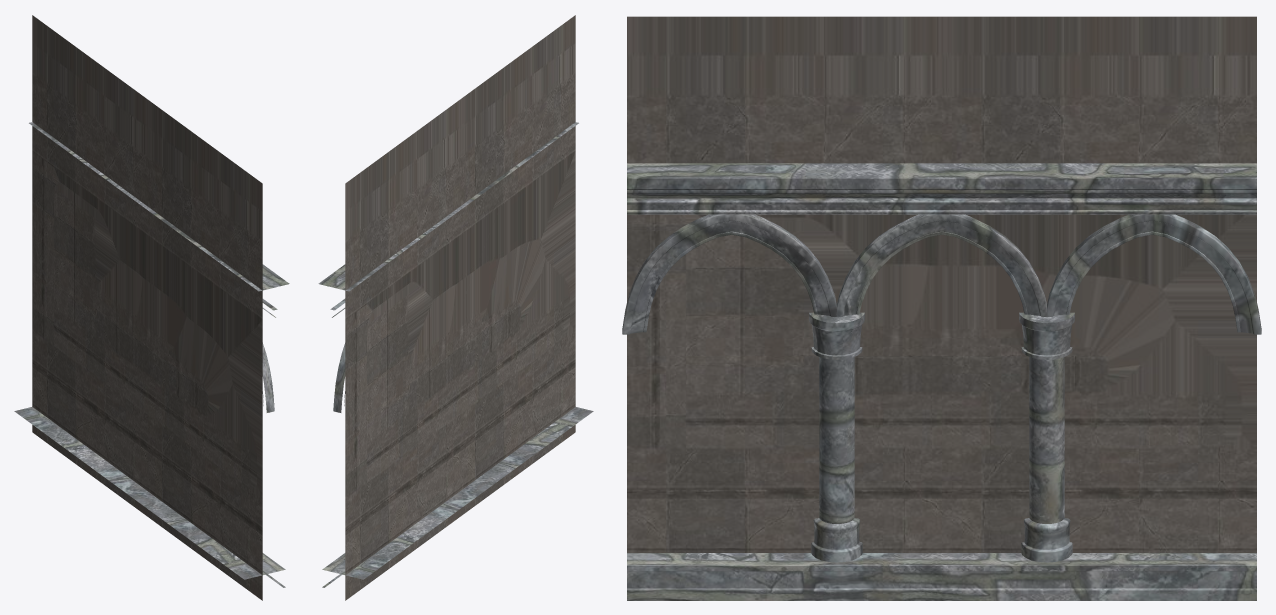
File: SM_Decorative_Arches.glb
The picture shows the model from 3 angles, left to right: view 1: azimuth 30°, elevation 25°; view 2: azimuth 150°, elevation 25°; view 3: azimuth 270°, elevation 25°; orthographic projection. The views are drawn at different scales.
Parts seen in each view (by area): view 1: SM_Decorative_Arches; view 2: SM_Decorative_Arches; view 3: SM_Decorative_Arches.
Part boxes in pixels (box(x1,y1,x2,y2)): SM_Decorative_Arches: box(14, 15, 289, 600); SM_Decorative_Arches: box(318, 15, 593, 600); SM_Decorative_Arches: box(622, 16, 1261, 600).
Size of the model in its own units: 0.6839 by 6 by 6.09.
Materials: 2 (2 with a texture image).
